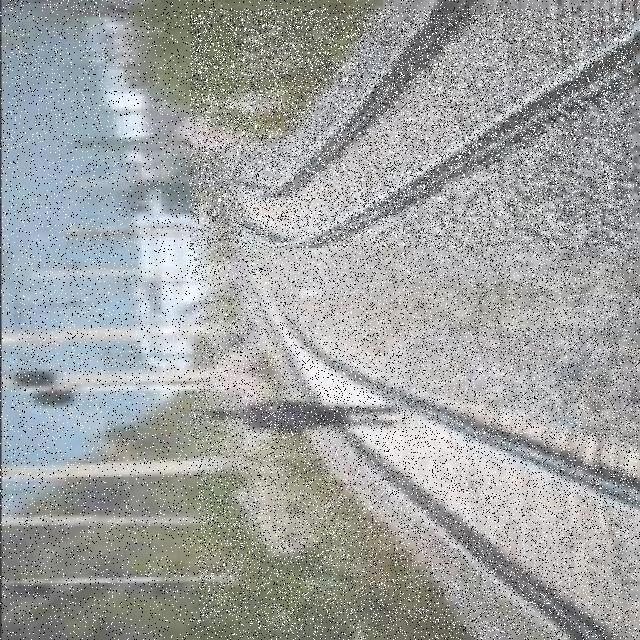rail: (199, 250, 639, 640), (191, 10, 633, 278)
